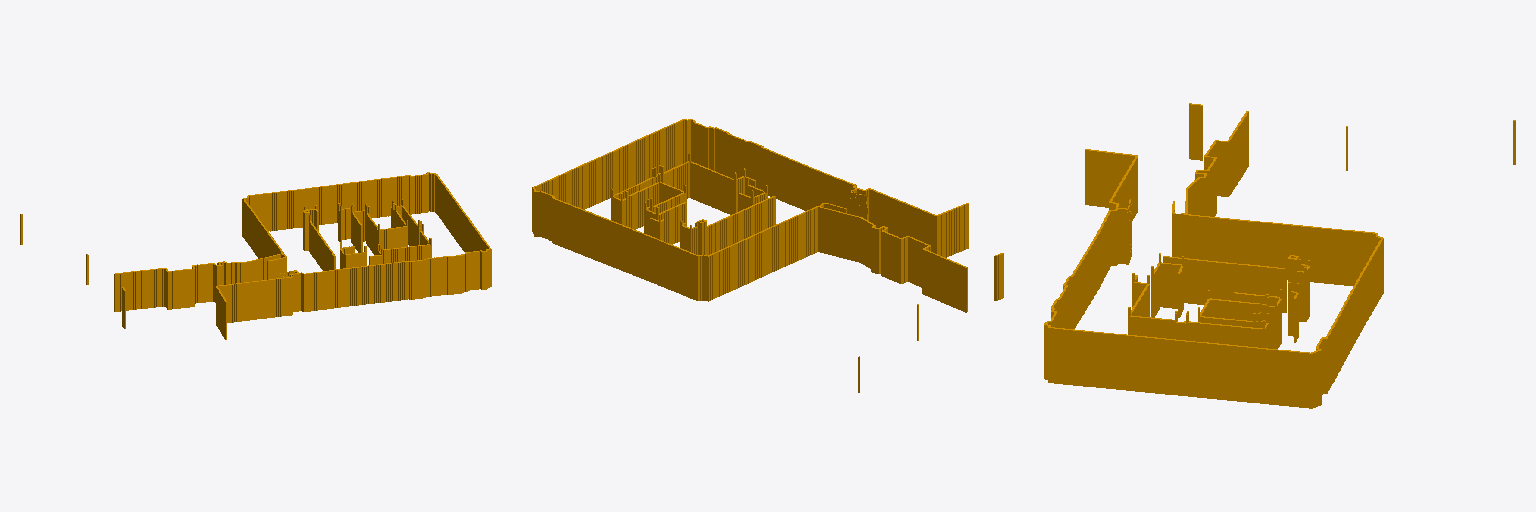
robot.urdf — world:
<?xml version="1.0"?>
<robot name="world">


<link name="world">
	<inertial>
		<mass value="10000"/>
		<inertia
			ixx="100000.0" ixy="0.0" ixz="0.0"
			iyy="100000.0" iyz="0.0"
			izz="100000.0"/>
	</inertial>	  
	
	<visual name="map_visual">
		<origin rpy="0 0 0" xyz="0 0 0"/>
		<geometry>
			<mesh 
				filename="package://robot_mo_spawn/meshes/map_2DoorsOpen.stl"
			/>
		</geometry>
	</visual>
	
	<collision name="map_collision">	
		<origin rpy="0 0 0" xyz="0 0 0"/>	
		<geometry>
			<mesh 
				filename="package://robot_mo_spawn/meshes/map_2DoorsOpen.stl"
			/>
		</geometry>
	</collision>   

</link>  




</robot>

--- Facts derived from the render (not from the file) ---
3 views of the same robot in one strip: view 1: azimuth 30°, elevation 25°; view 2: azimuth 150°, elevation 25°; view 3: azimuth 270°, elevation 25° (orthographic).
Robot: world — 1 links, 0 joints (none); root link world; default pose: every joint at zero.
Visible links, largest first — view 1: world; view 2: world; view 3: world.
Link boxes in pixels (x1,y1,x2,y2): world: (20,172,491,339); world: (532,119,1003,392); world: (1044,103,1515,408).
Bounding box of the posed robot: 19.55 × 15.55 × 2 m (x, y, z).
Meshes: 1 distinct files referenced, 1 mesh visuals loaded (1 binary STL).